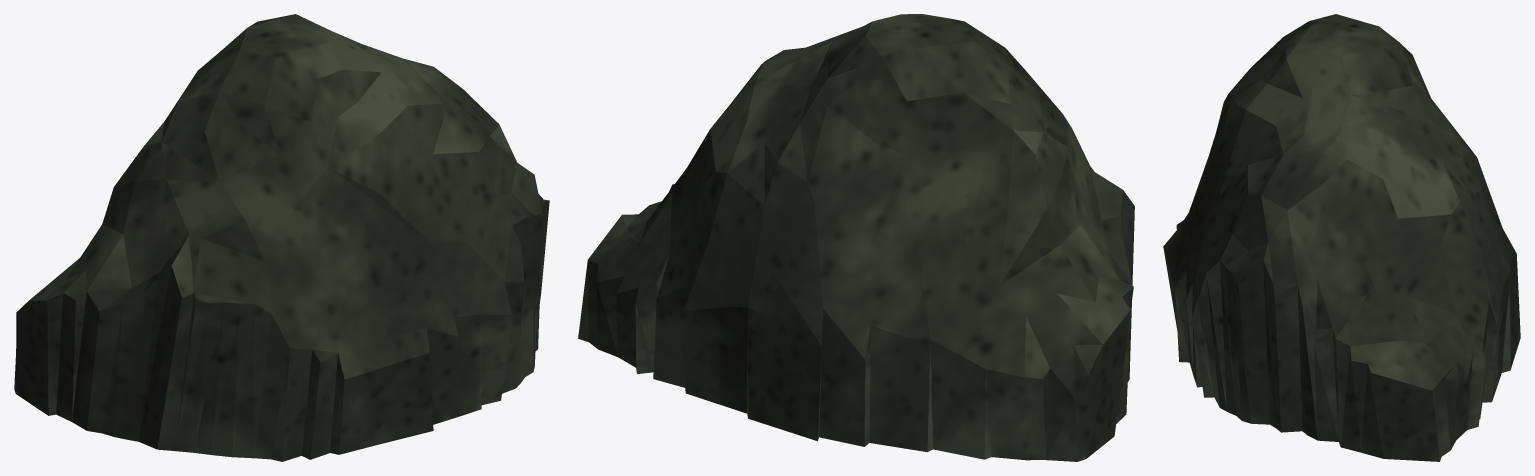
File: CRERock02.glb
The picture shows the model from 3 angles, left to right: view 1: azimuth 30°, elevation 25°; view 2: azimuth 150°, elevation 25°; view 3: azimuth 270°, elevation 25°; orthographic projection. The views are drawn at different scales.
Visible parts, largest first — view 1: CRERock02_rock; view 2: CRERock02_rock; view 3: CRERock02_rock.
Boxes of the visible parts, <box> form: CRERock02_rock: <box>14,14,549,461</box>; CRERock02_rock: <box>578,14,1134,461</box>; CRERock02_rock: <box>1163,14,1520,461</box>.
Bounding box in the file's own units: 3.1 × 1.99 × 2.1.
1 material, 1 textured.
